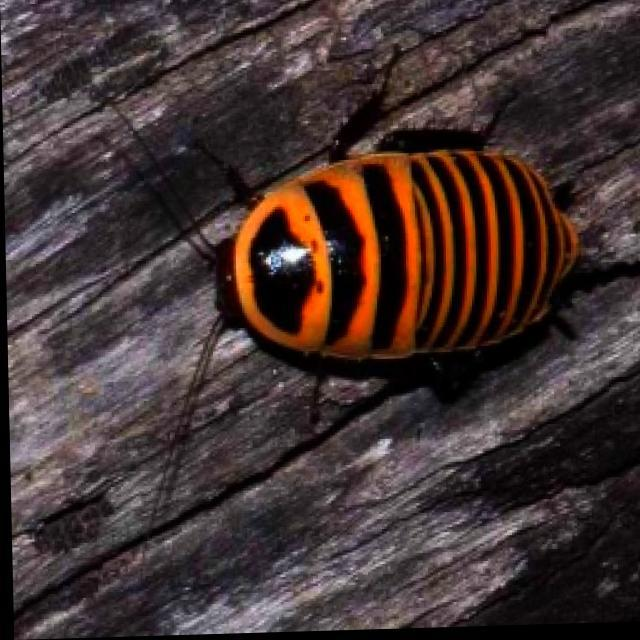cockroach: (217, 143, 584, 368)
